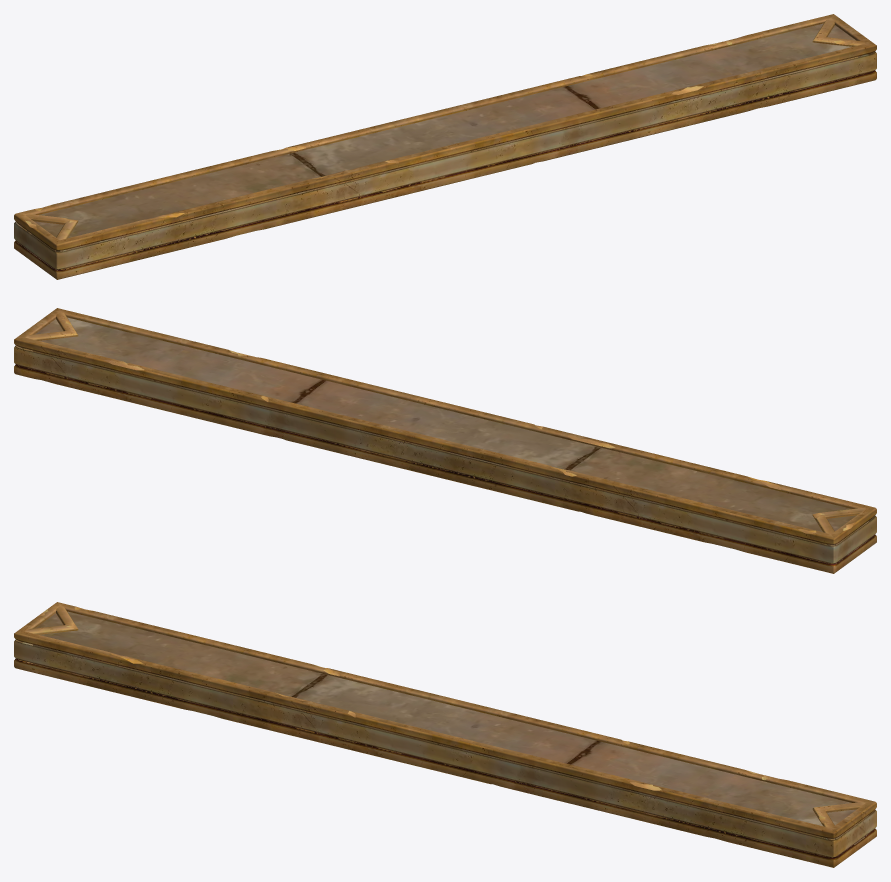
3 views of the same model, one above another, from view 1: azimuth 30°, elevation 25°; view 2: azimuth 150°, elevation 25°; view 3: azimuth 330°, elevation 25° (orthographic).
Parts seen in each view (by area): view 1: SM_AgilityBeam_6_LOD0; view 2: SM_AgilityBeam_6_LOD0; view 3: SM_AgilityBeam_6_LOD0.
Part boxes in pixels (bbox=[...]): SM_AgilityBeam_6_LOD0: bbox=[14, 14, 876, 279]; SM_AgilityBeam_6_LOD0: bbox=[14, 308, 876, 573]; SM_AgilityBeam_6_LOD0: bbox=[14, 602, 876, 867].
Size of the model in its own units: 6 by 0.2501 by 0.5501.
Materials: 2 (2 with a texture image).
